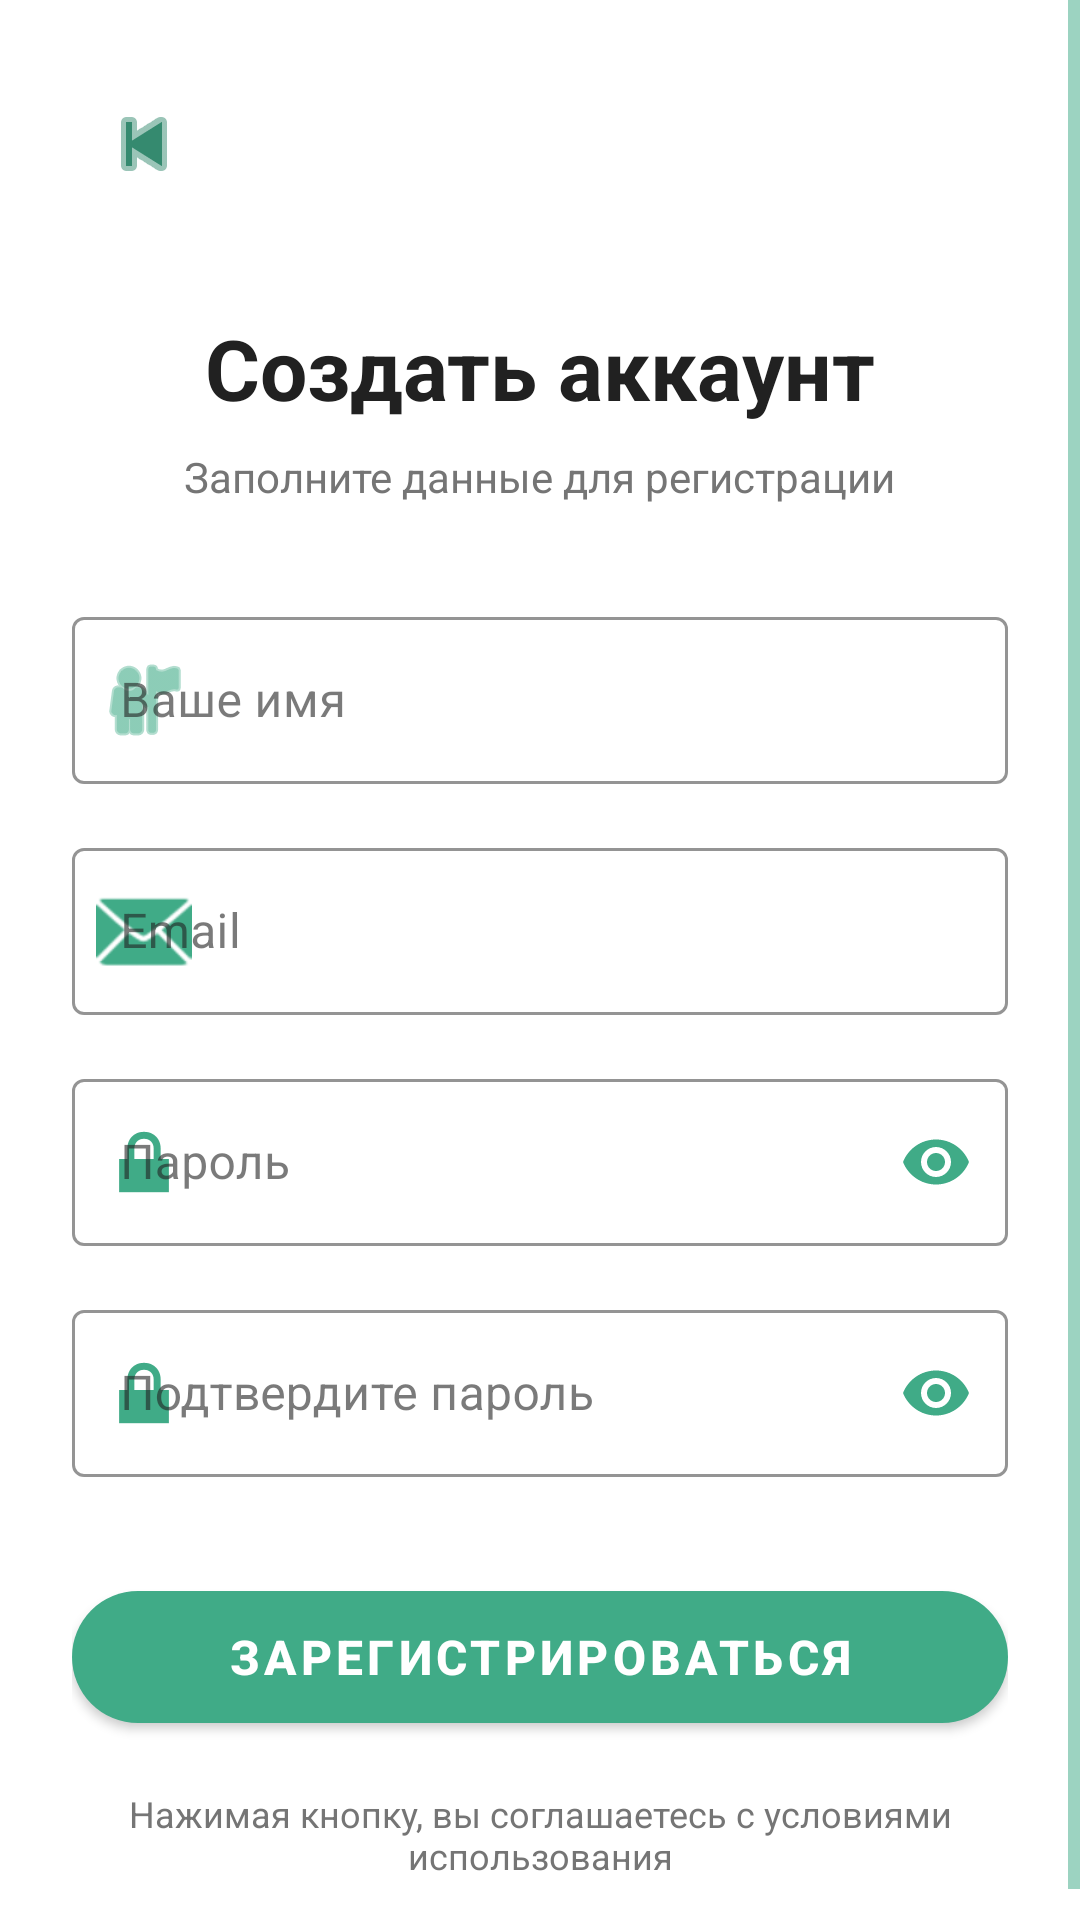

Point at icon controls on the screen. Image size 1080x1920, points as [x,y].
Назад: [144,144]
